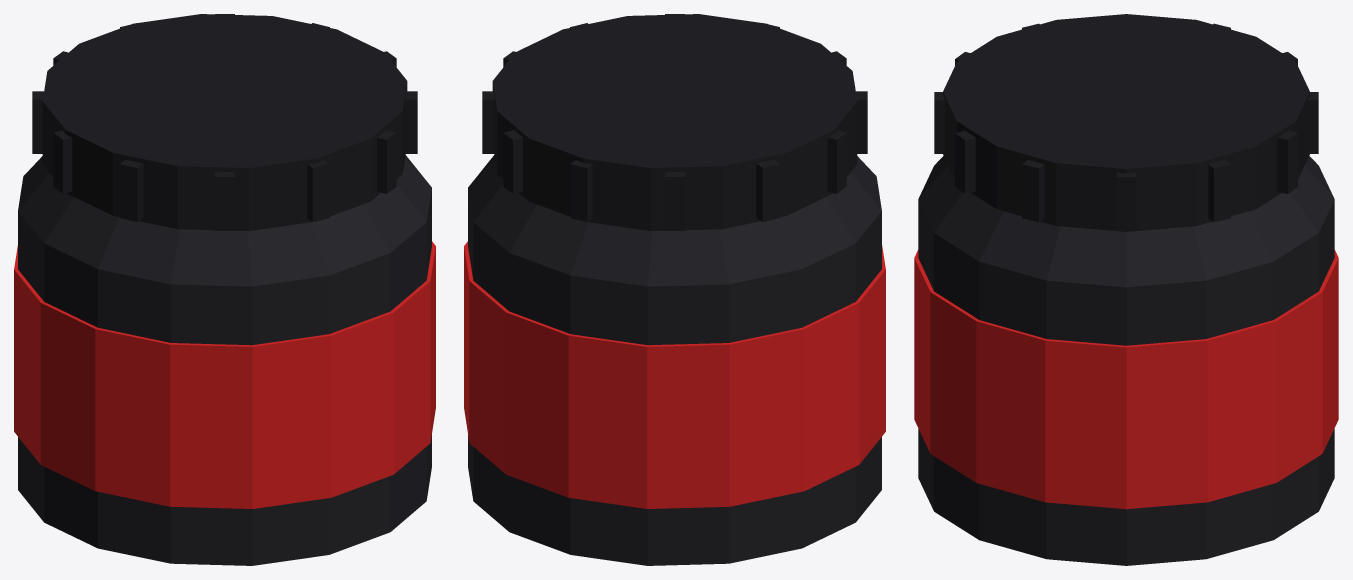
Rendered from ProteinTub_Standard.fbx.
3 renders of one model, left to right at view 1: azimuth 30°, elevation 25°; view 2: azimuth 150°, elevation 25°; view 3: azimuth 270°, elevation 25°, orthographic.
Parts seen in each view (by area): view 1: WaistBand, TubCap, TubBody, TubNeck, CapRidge_8, CapRidge_10, CapRidge_11, CapRidge_9, CapRidge_7, CapRidge_12, CapRidge_6; view 2: WaistBand, TubCap, TubBody, TubNeck, CapRidge_6, CapRidge_4, CapRidge_3, CapRidge_5, CapRidge_7, CapRidge_2, CapRidge_8; view 3: WaistBand, TubCap, TubBody, TubNeck, CapRidge_12, CapRidge_2, CapRidge_11, CapRidge_3, CapRidge_1, CapRidge_10, CapRidge_4.
Boxes of the visible parts, x1,y1,x2,y2 form: WaistBand: (14,241,435,508); TubCap: (42,14,407,231); TubBody: (18,189,431,565); TubNeck: (18,155,431,286); CapRidge_8: (120,160,143,221); CapRidge_10: (307,160,329,221); CapRidge_11: (377,130,396,193); CapRidge_9: (215,171,234,230); CapRidge_7: (53,130,72,193); CapRidge_12: (405,91,417,153); CapRidge_6: (32,91,43,153); WaistBand: (464,241,885,508); TubCap: (492,14,857,231); TubBody: (468,189,881,565); TubNeck: (468,155,881,286); CapRidge_6: (756,160,779,221); CapRidge_4: (570,160,592,221); CapRidge_3: (503,130,522,193); CapRidge_5: (665,171,684,230); CapRidge_7: (827,130,846,193); CapRidge_2: (482,91,494,153); CapRidge_8: (856,91,867,153); WaistBand: (914,250,1338,509); TubCap: (943,14,1309,231); TubBody: (918,200,1334,565); TubNeck: (918,156,1334,287); CapRidge_12: (1022,159,1044,222); CapRidge_2: (1208,159,1230,222); CapRidge_11: (955,130,975,193); CapRidge_3: (1277,130,1297,193); CapRidge_1: (1116,172,1136,230); CapRidge_10: (934,92,944,153); CapRidge_4: (1308,92,1318,153).
Bounding box in the file's own units: 0.856 × 0.856 × 0.86.
